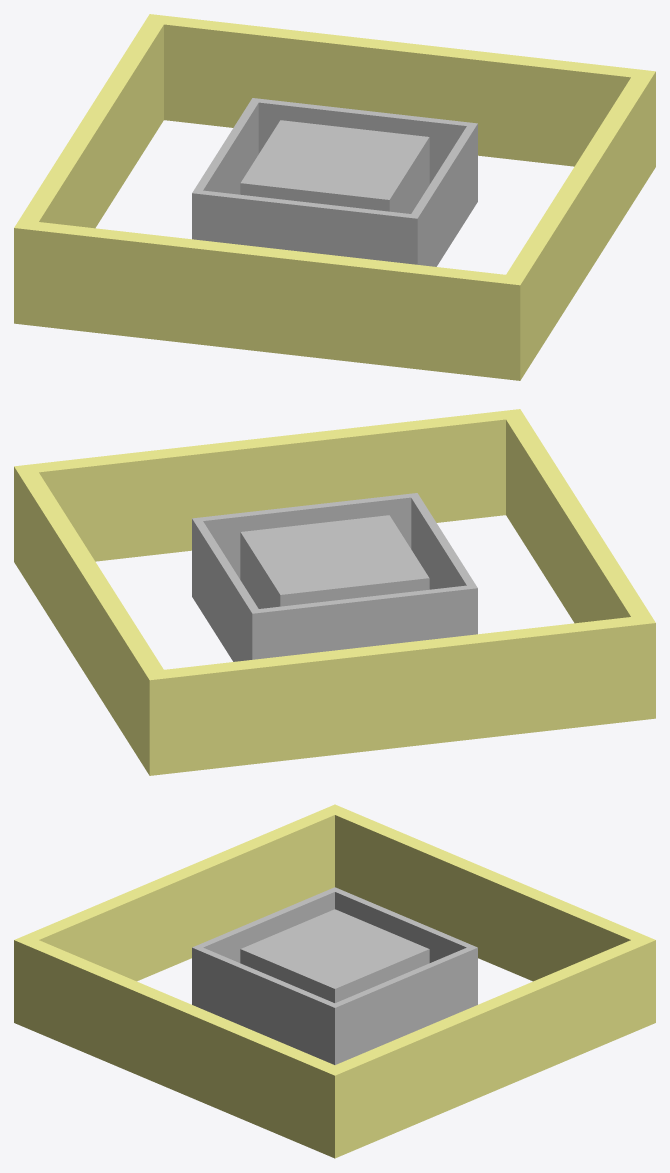
The model's file is Long_NoteSet.FBX.
3 views of the same model, one above another, from view 1: azimuth 30°, elevation 25°; view 2: azimuth 150°, elevation 25°; view 3: azimuth 270°, elevation 25° (orthographic). The views are drawn at different scales.
Parts seen in each view (by area): view 1: Object005, Box002; view 2: Object005, Box002; view 3: Object005, Box002.
Boxes of the visible parts, x1=… form: Object005: x1=14, y1=14, x2=655, y2=380; Box002: x1=192, y1=98, x2=477, y2=266; Object005: x1=14, y1=409, x2=655, y2=775; Box002: x1=192, y1=493, x2=477, y2=661; Object005: x1=14, y1=804, x2=655, y2=1158; Box002: x1=192, y1=887, x2=477, y2=1064.
Size of the model in its own units: 315 by 44.84 by 315.
